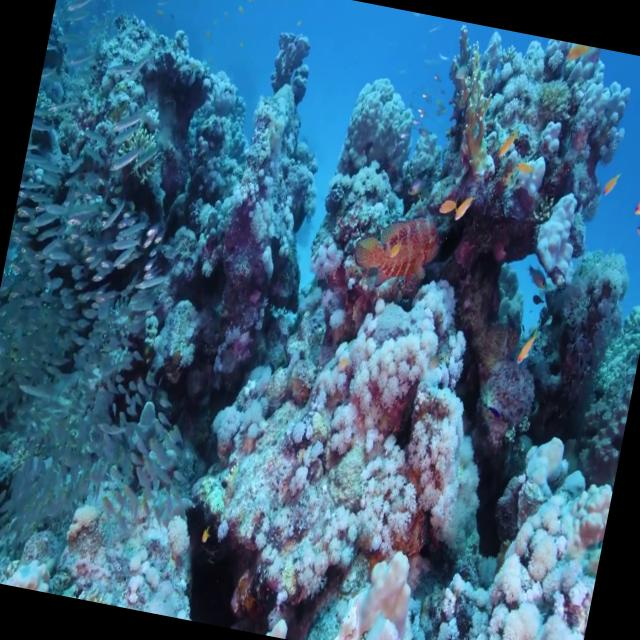fish: (348, 188, 448, 294), (511, 309, 546, 376), (448, 185, 476, 232), (625, 210, 640, 251)
